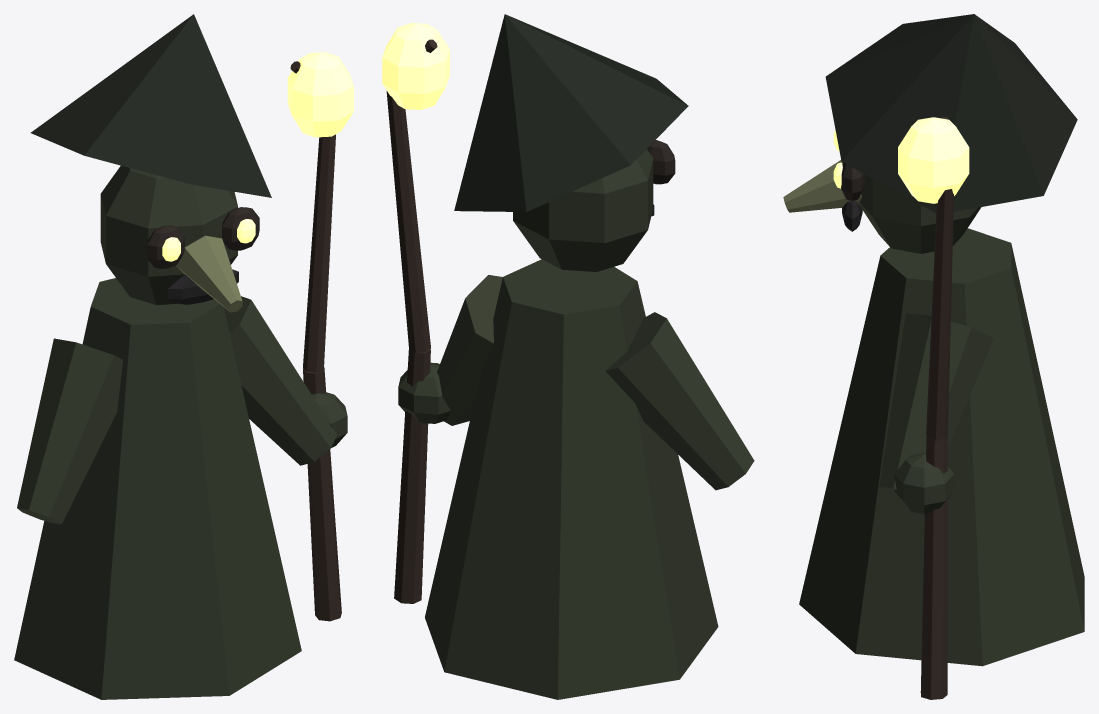
Rendered from fauna-blackbriar_hag.glb.
3 views of the same model, side by side, from view 1: azimuth 30°, elevation 25°; view 2: azimuth 150°, elevation 25°; view 3: azimuth 270°, elevation 25° (orthographic). The views are drawn at different scales.
Parts seen in each view (by area): view 1: Fauna_blackbriar_hag; view 2: Fauna_blackbriar_hag; view 3: Fauna_blackbriar_hag.
Part boxes in pixels (x1,y1,x2,y2): Fauna_blackbriar_hag: [14, 14, 353, 699]; Fauna_blackbriar_hag: [382, 14, 754, 699]; Fauna_blackbriar_hag: [783, 14, 1084, 699].
Size of the model in its own units: 1.28 by 2.2 by 0.9627.
